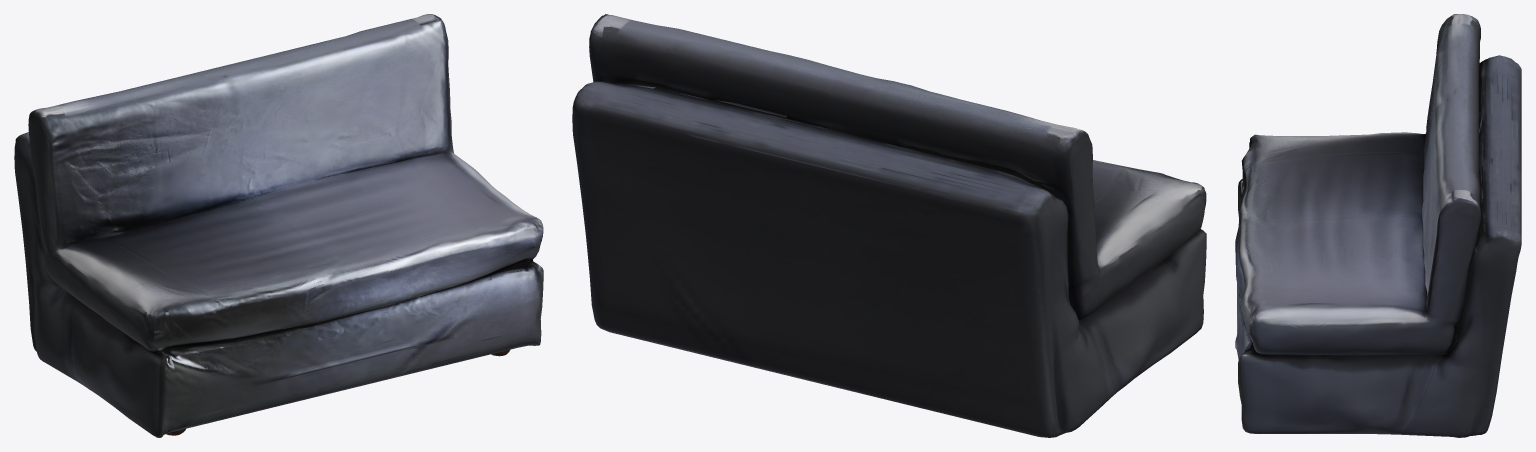
The model's file is Loveseat_Block_Leather_32InchesTall_0222192113_texture.glb.
3 renders of one model, left to right at view 1: azimuth 30°, elevation 25°; view 2: azimuth 150°, elevation 25°; view 3: azimuth 270°, elevation 25°, orthographic. The views are drawn at different scales.
Visible parts, largest first — view 1: Mesh_0; view 2: Mesh_0; view 3: Mesh_0.
Boxes of the visible parts, bbox=[...] form: Mesh_0: bbox=[14, 14, 543, 437]; Mesh_0: bbox=[572, 14, 1206, 437]; Mesh_0: bbox=[1235, 14, 1521, 437].
Size of the model in its own units: 1.34 by 0.8128 by 0.8485.
Materials: 1 (1 with a texture image).
